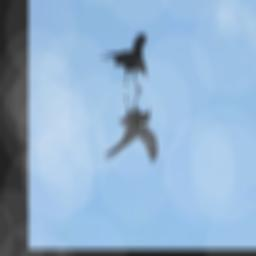Crow: (101, 86, 159, 164)
